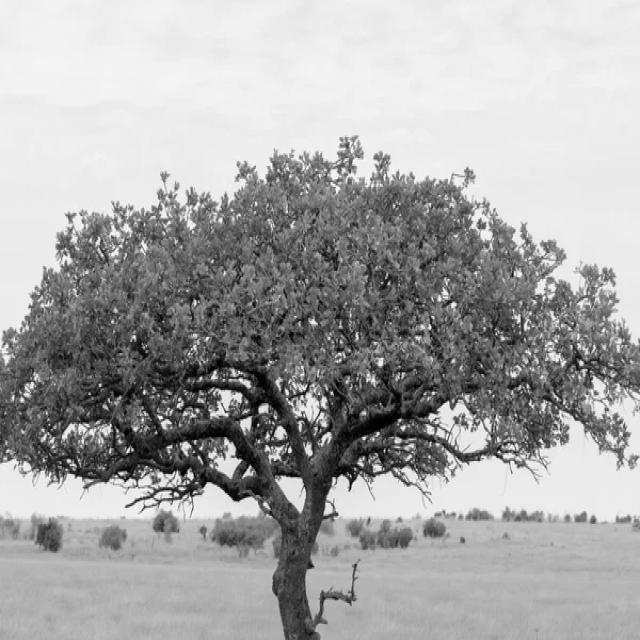Tree: (0, 137, 640, 639)
